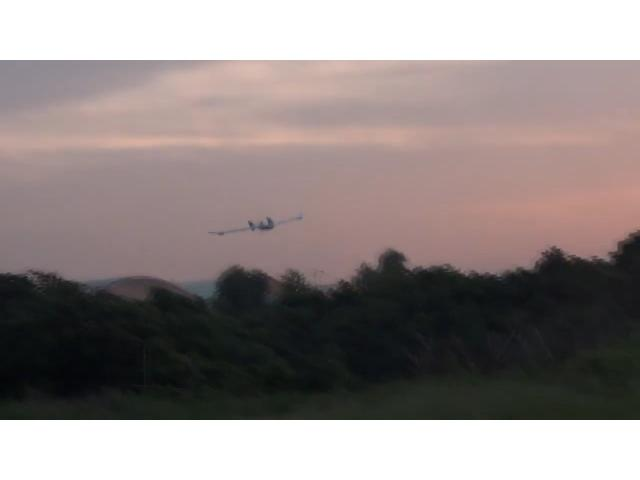Anti-Drone: (209, 216, 305, 234)
